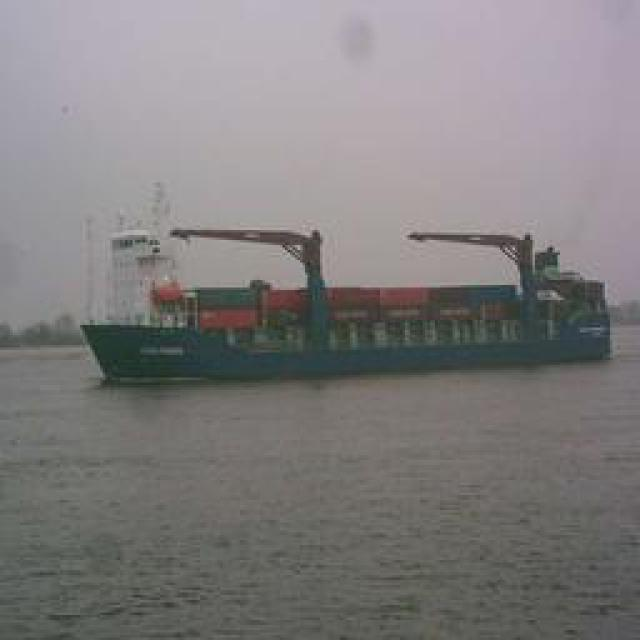Ship: (85, 281, 615, 379)
